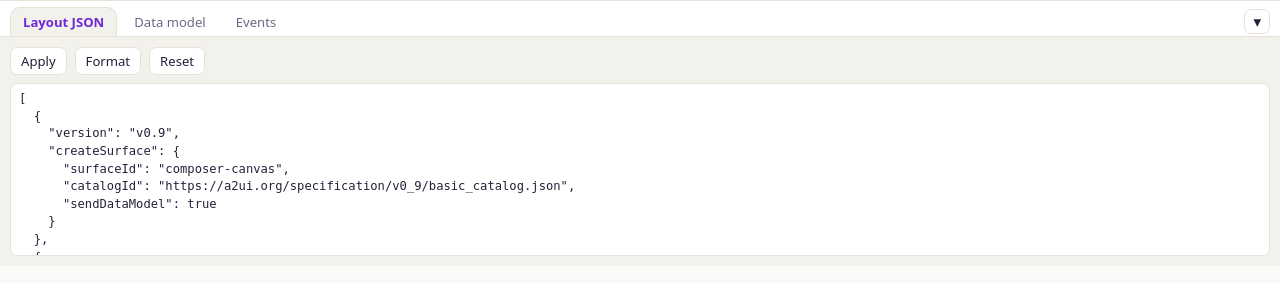
Test: JSON drawer tab › Reset restores the doc JSON and clears the modified badge
Replace the text in the text box with test id "json-editor" with "garbage" at x=640, y=170, box x1=10 y1=83 x2=1270 y2=256
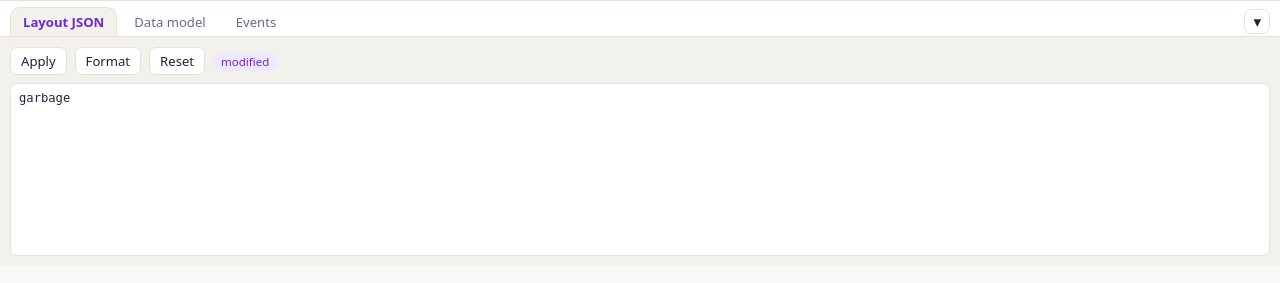
Click the button with test id "json-reset".
click(177, 61)  # box x1=149 y1=47 x2=205 y2=75
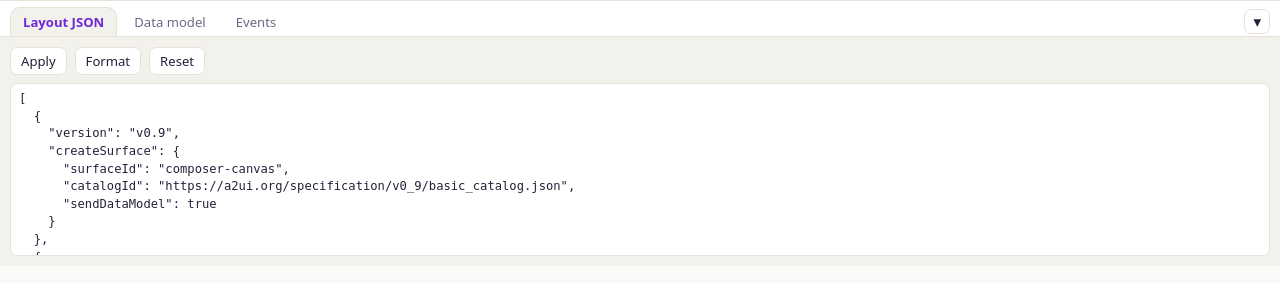
Now the text with test id "json-modified" is gone
